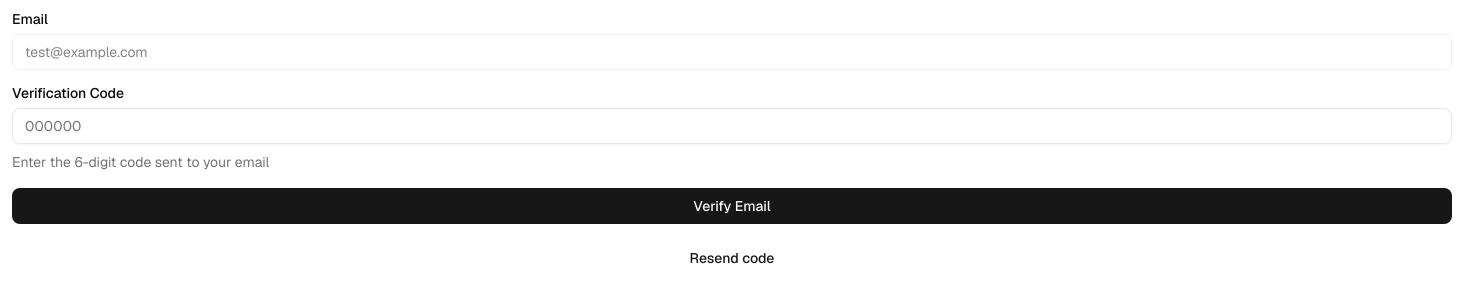
Test: VerifyEmailForm › shows validation error for invalid code
Type "abc" into the field labelled "Verification Code" at x=732, y=126, box [12, 108, 1452, 144]
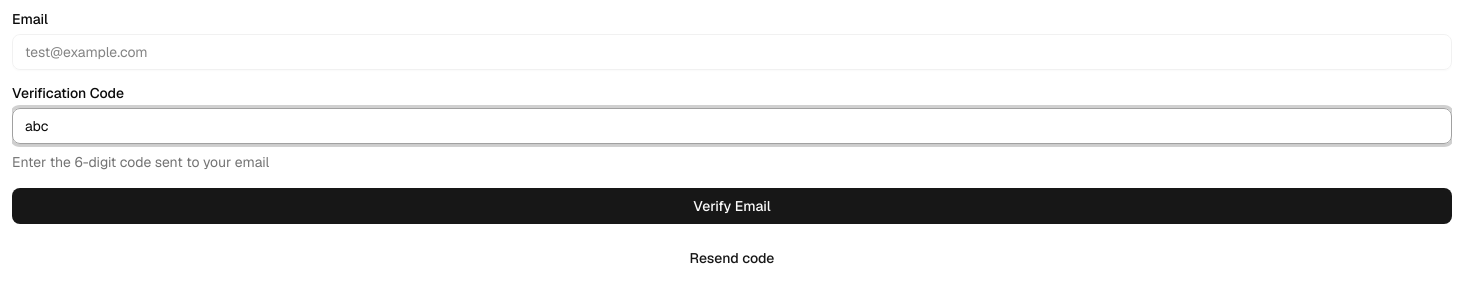
Click the button "Verify Email" at x=732, y=206, box [12, 188, 1452, 224]
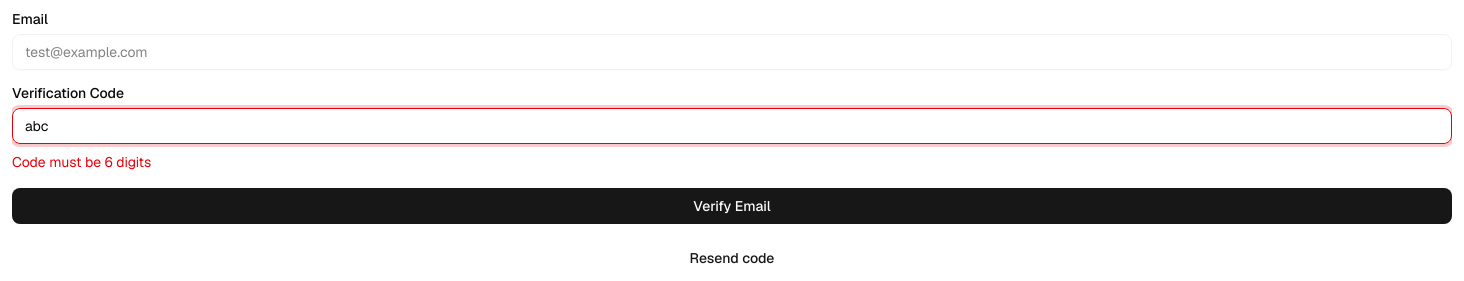
Check: the text "Code must be 6 digits" is shown, box [12, 153, 151, 171]
